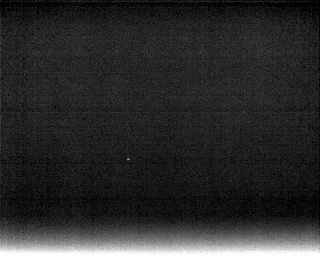AIRPLANE: (124, 154, 133, 165)
